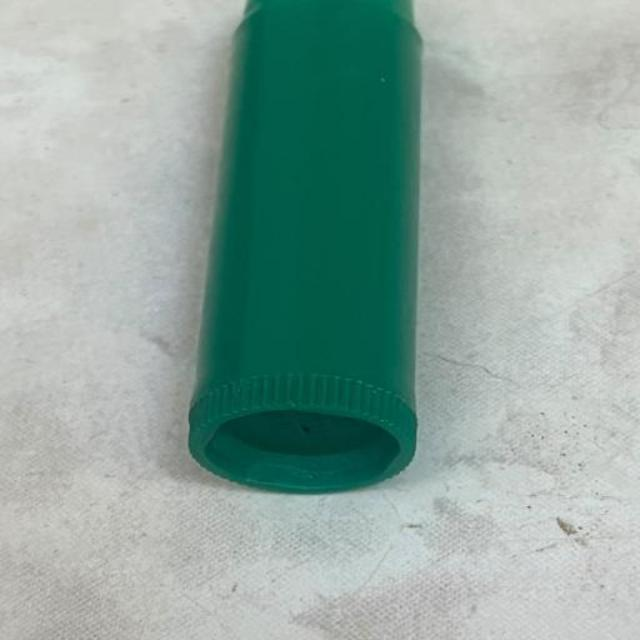HDPE: (145, 14, 516, 520)
